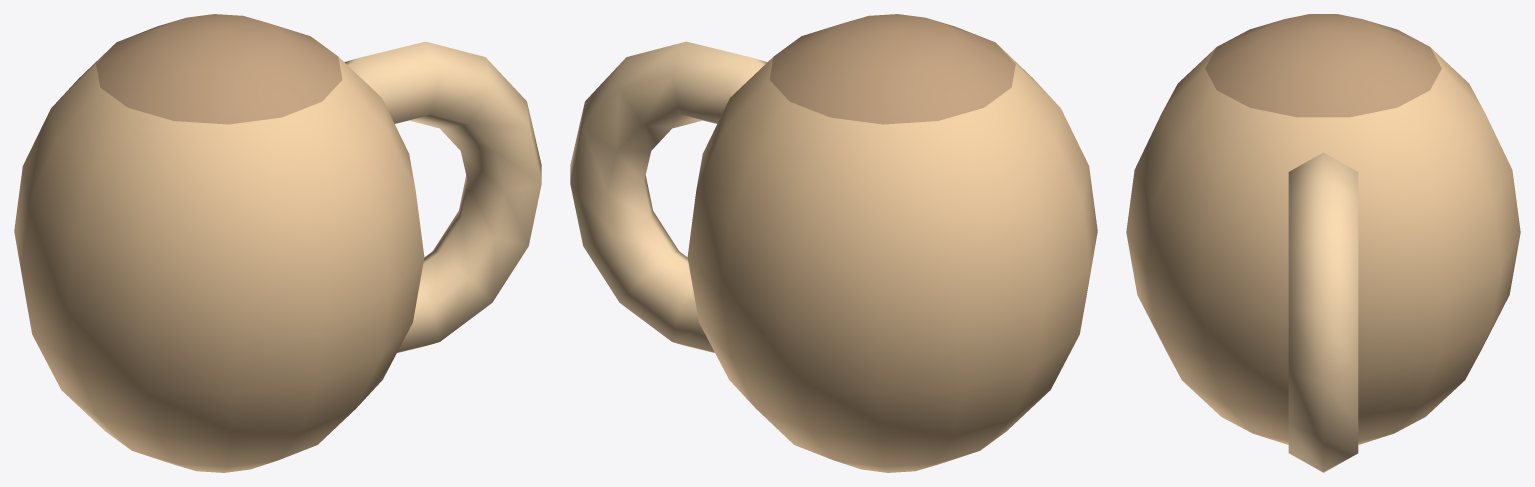
File: mug.glb
The picture shows the model from 3 angles, left to right: view 1: azimuth 30°, elevation 25°; view 2: azimuth 150°, elevation 25°; view 3: azimuth 270°, elevation 25°; orthographic projection. The views are drawn at different scales.
Visible parts, largest first — view 1: mug; view 2: mug; view 3: mug.
Part boxes in pixels (bbox=[...]): mug: bbox=[14, 14, 541, 472]; mug: bbox=[570, 14, 1097, 472]; mug: bbox=[1126, 14, 1520, 472].
Bounding box in the file's own units: 0.1237 × 0.1011 × 0.0893.
